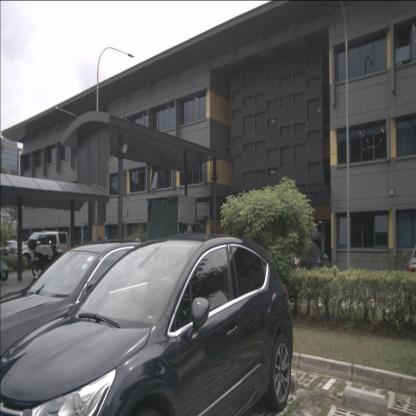vehicle-car: (0, 238, 295, 415), (0, 240, 199, 416), (262, 236, 330, 300), (9, 230, 70, 270), (0, 240, 34, 265), (404, 243, 416, 306)
vehicle-motorcycle: (28, 239, 65, 278)
vehicle-truck: (146, 195, 206, 268)
